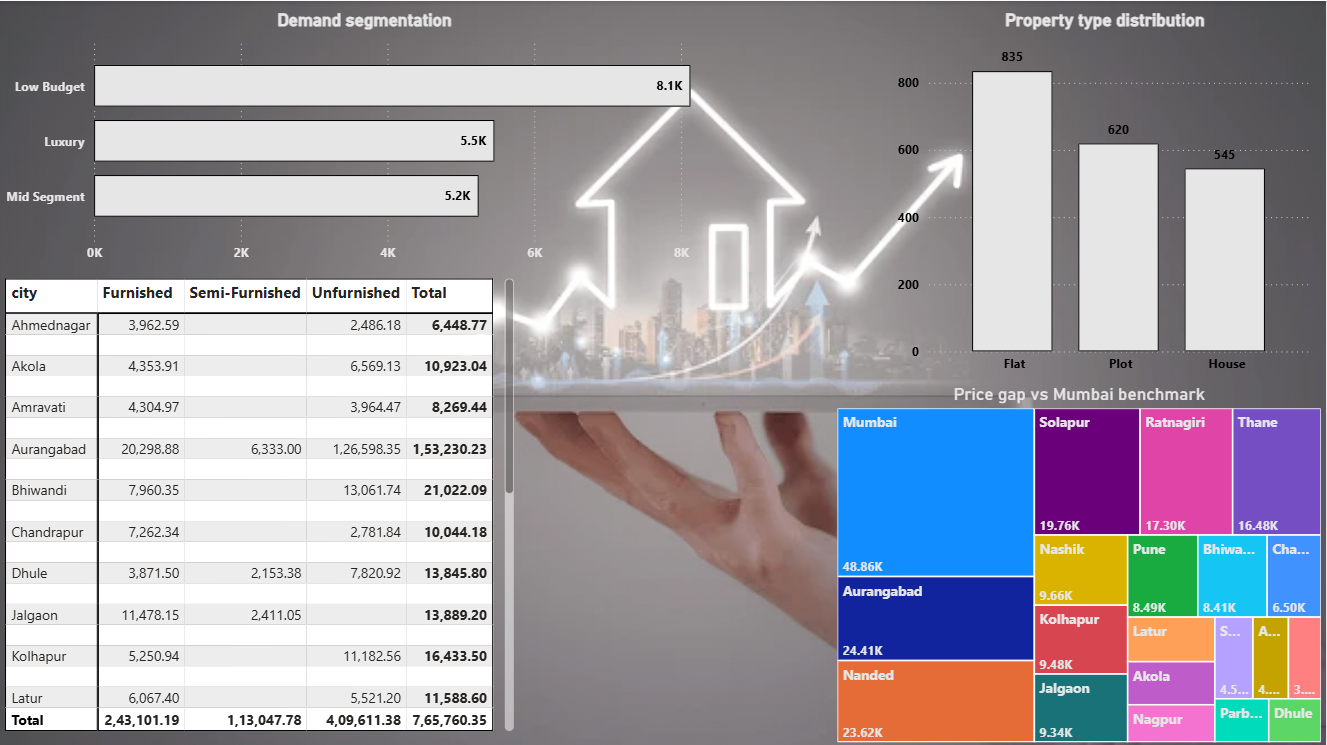

The page's visual inventory and layout, read from the dashboard file:
{"tool":"powerbi","page":{"name":"Page 2","canvas":[1280,720],"ordinal":1},"visuals":[{"type":"pivotTable","fields":{"Rows":["furnishing impact on prices.city"],"Columns":["furnishing impact on prices.furnishing"],"Values":["Sum(furnishing impact on prices.avg_price_sqft)"]},"box":[0,262.5,501.2,446.2],"z":0},{"type":"treemap","title":"Price gap vs Mumbai benchmark","fields":{"Group":["price gap analysis.city"],"Values":["Sum(price gap analysis.city_avg)"]},"box":[803.5,369.2,476.5,351.1],"z":1000},{"type":"columnChart","title":"Property type distribution","fields":{"Category":["property type distribution.property_type"],"Y":["Sum(property type distribution.pct_share)"]},"box":[861.2,8.8,410,360],"z":2000},{"type":"clusteredBarChart","title":"Demand segmentation","fields":{"Category":["demand segmentation.segment"],"Y":["Sum(demand segmentation.listings_count)"]},"box":[0,8.8,703.8,252.5],"z":3000}]}

Visuals, with their boxes in screenshot pixels (x1, y1, x2, y2), scaled from the page's 1280x720 canvas onto the 1327x745 screenshot:
pivotTable - furnishing impact on prices.city x furnishing impact on prices.furnishing: select_region(0, 272, 520, 733)
"Price gap vs Mumbai benchmark" treemap: select_region(833, 382, 1326, 744)
"Property type distribution" columnChart: select_region(893, 9, 1318, 382)
"Demand segmentation" clusteredBarChart: select_region(0, 9, 730, 270)
